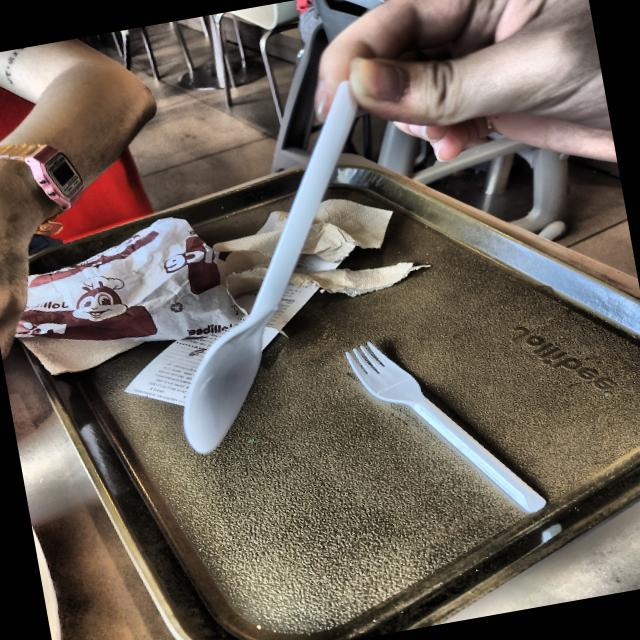plastic utensil: (182, 81, 358, 454), (346, 342, 545, 512)
